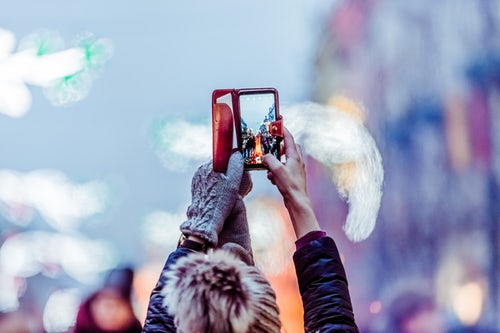phone: (238, 86, 281, 172)
